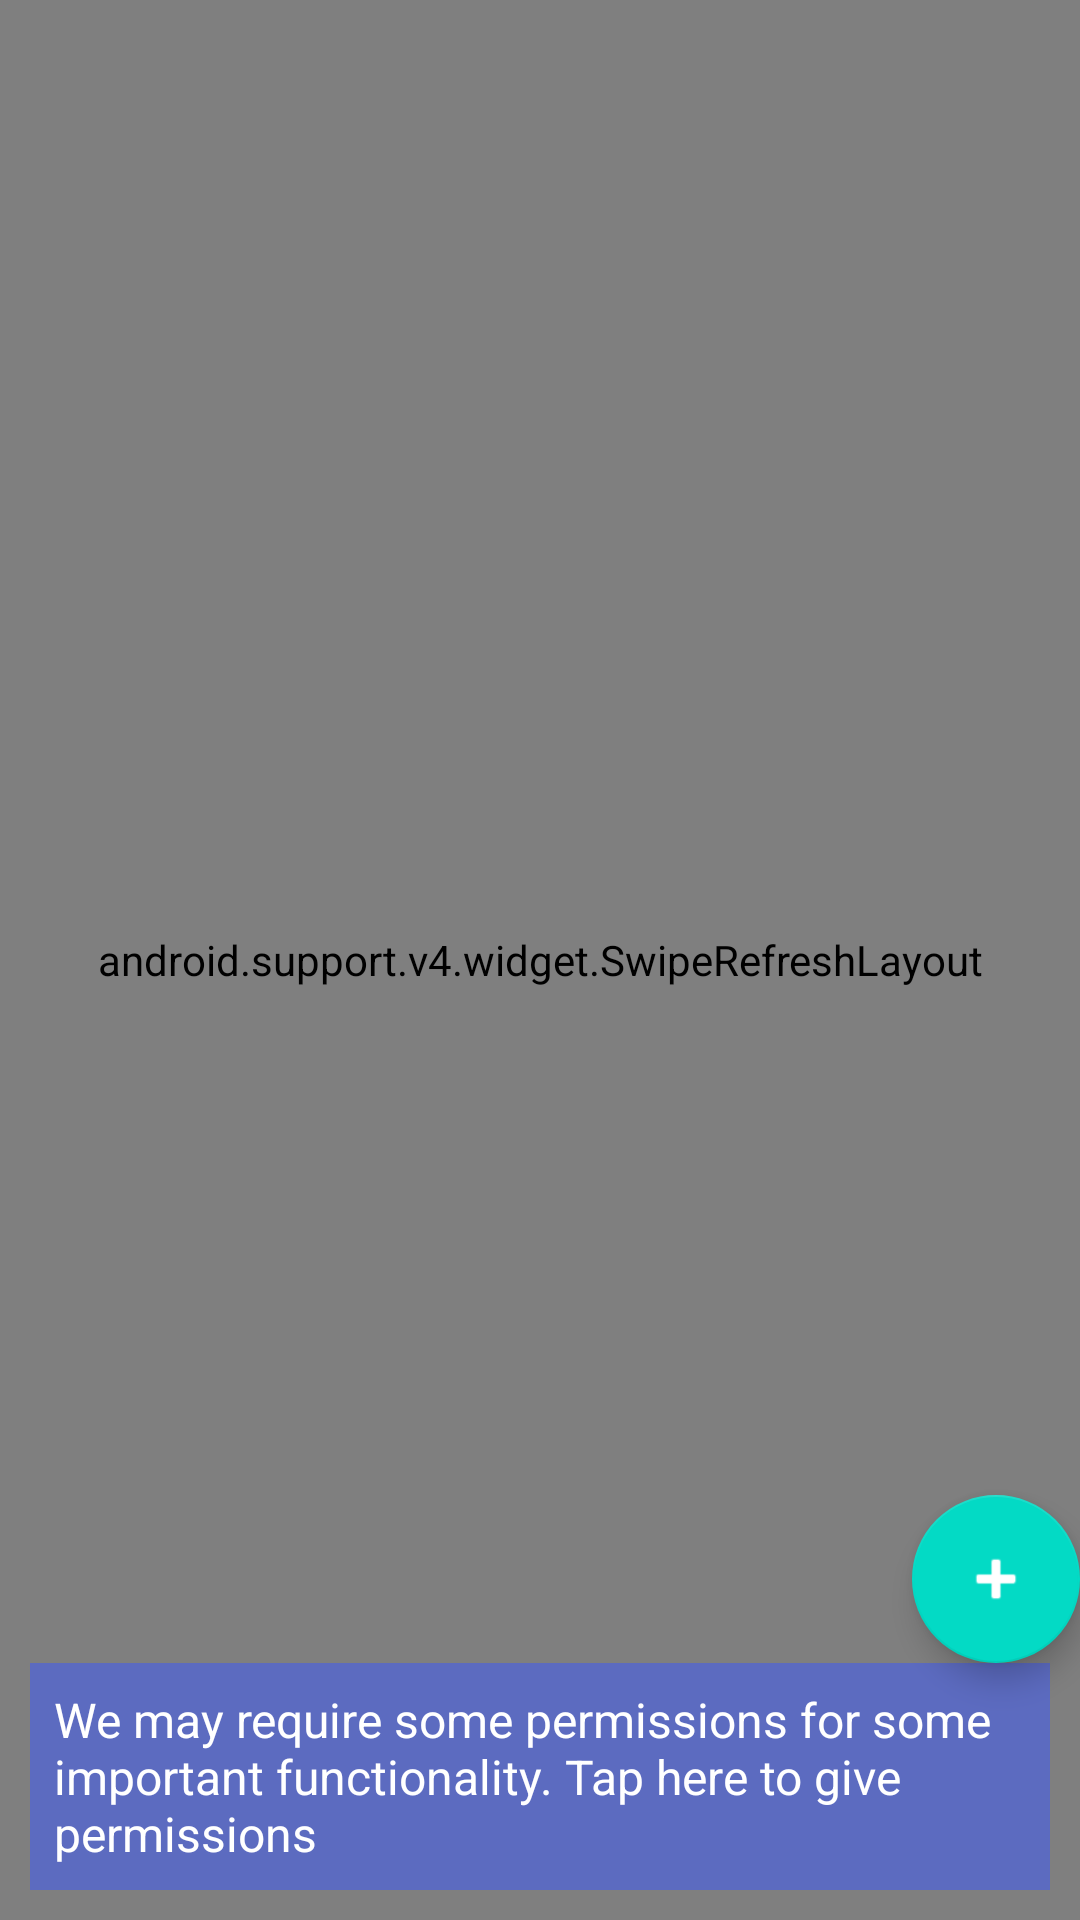

Icon bounding boxes for this 1080x1920 phone screenshot, format detection(x1, y1, x2, y2):
add: detection(912, 1495, 1080, 1663)
